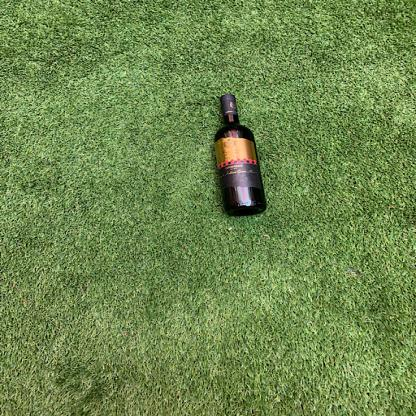trash: (207, 94, 270, 219)
